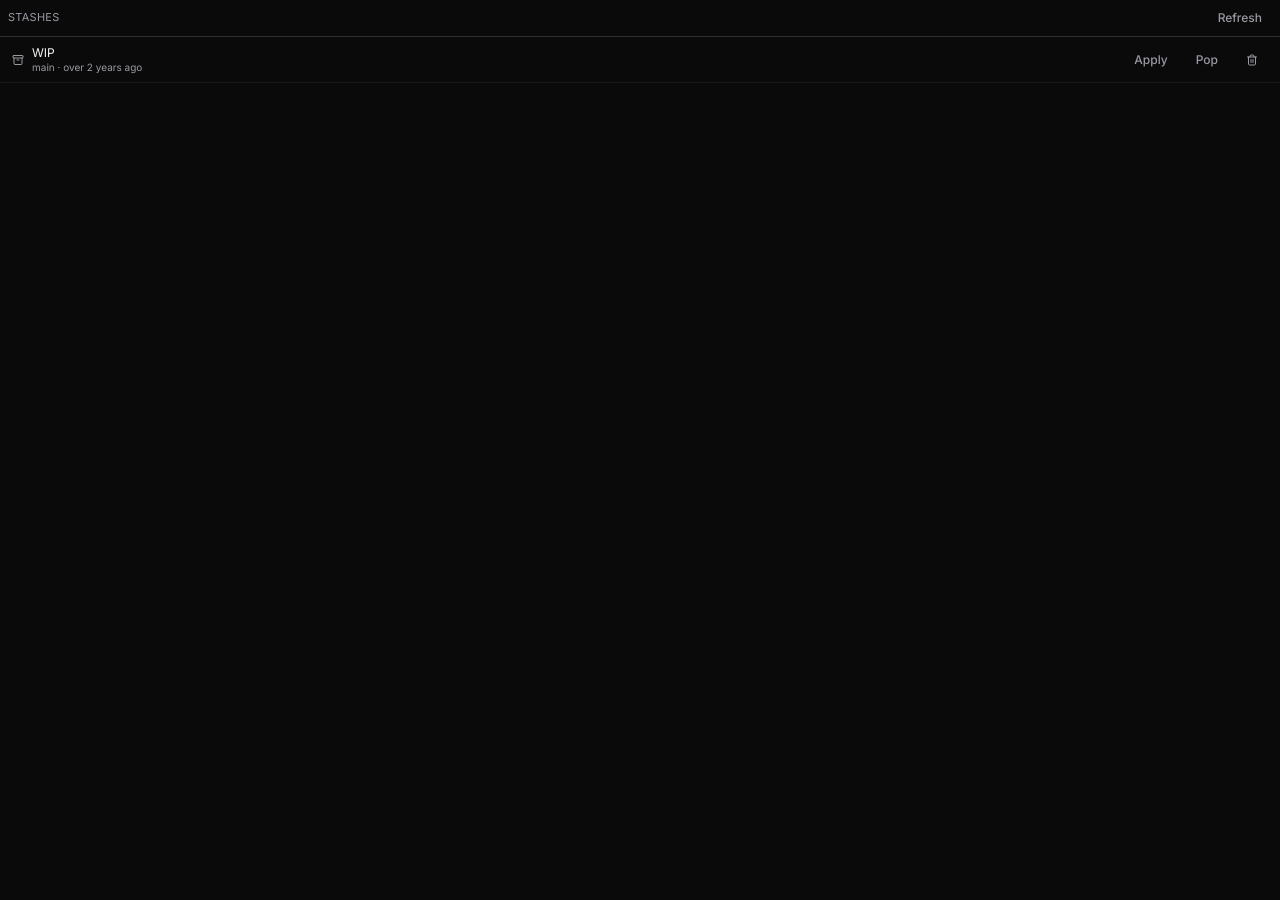
Test: StashList › renders empty state and a row, then opens confirm dialog
Expected: the element with test id "stash-row" is shown, [0, 37, 1279, 83]
Click the button with test id "stash-apply": [1151, 60] box [1124, 46, 1178, 74]
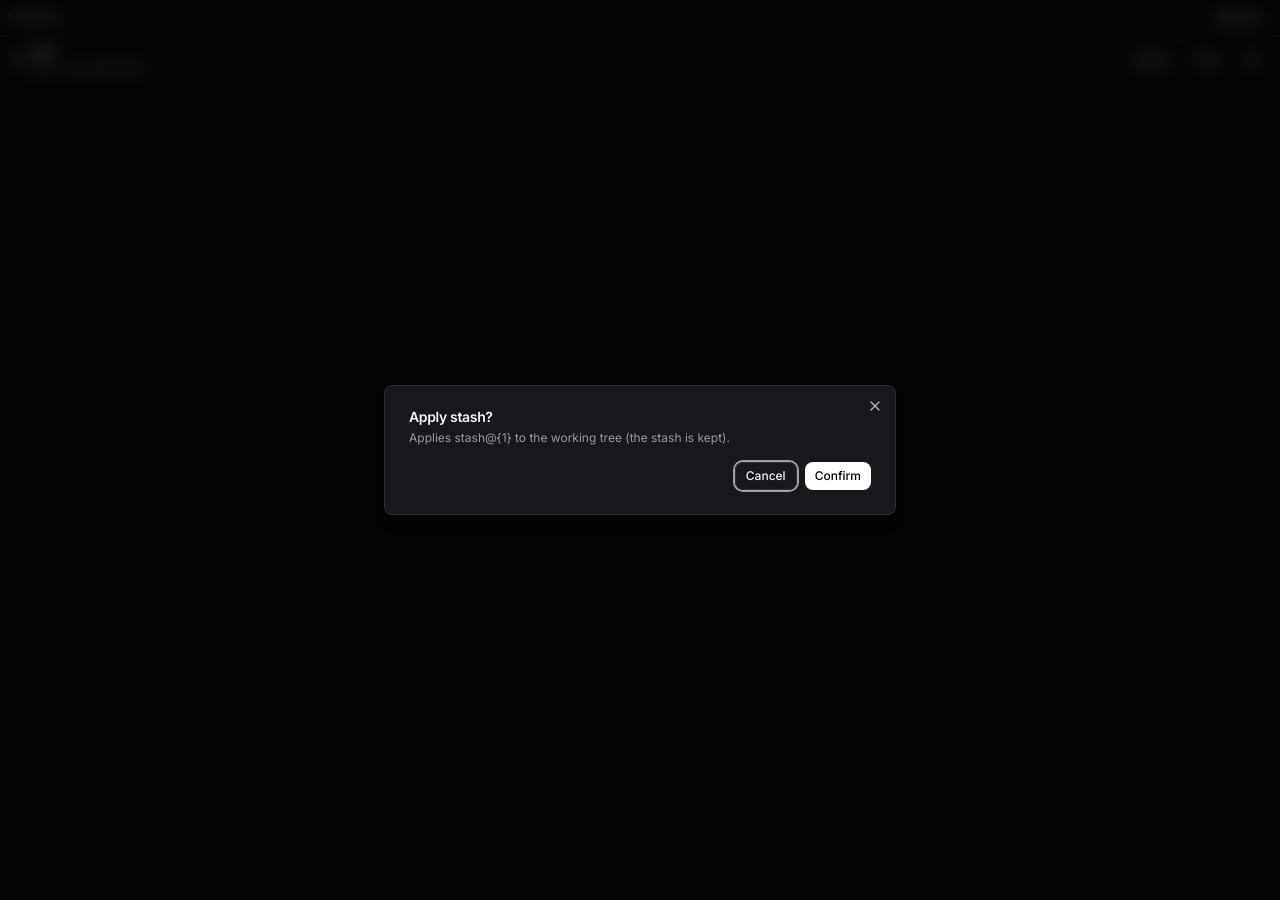
Result: the heading "Apply stash?" is shown at [409, 408, 493, 425]
